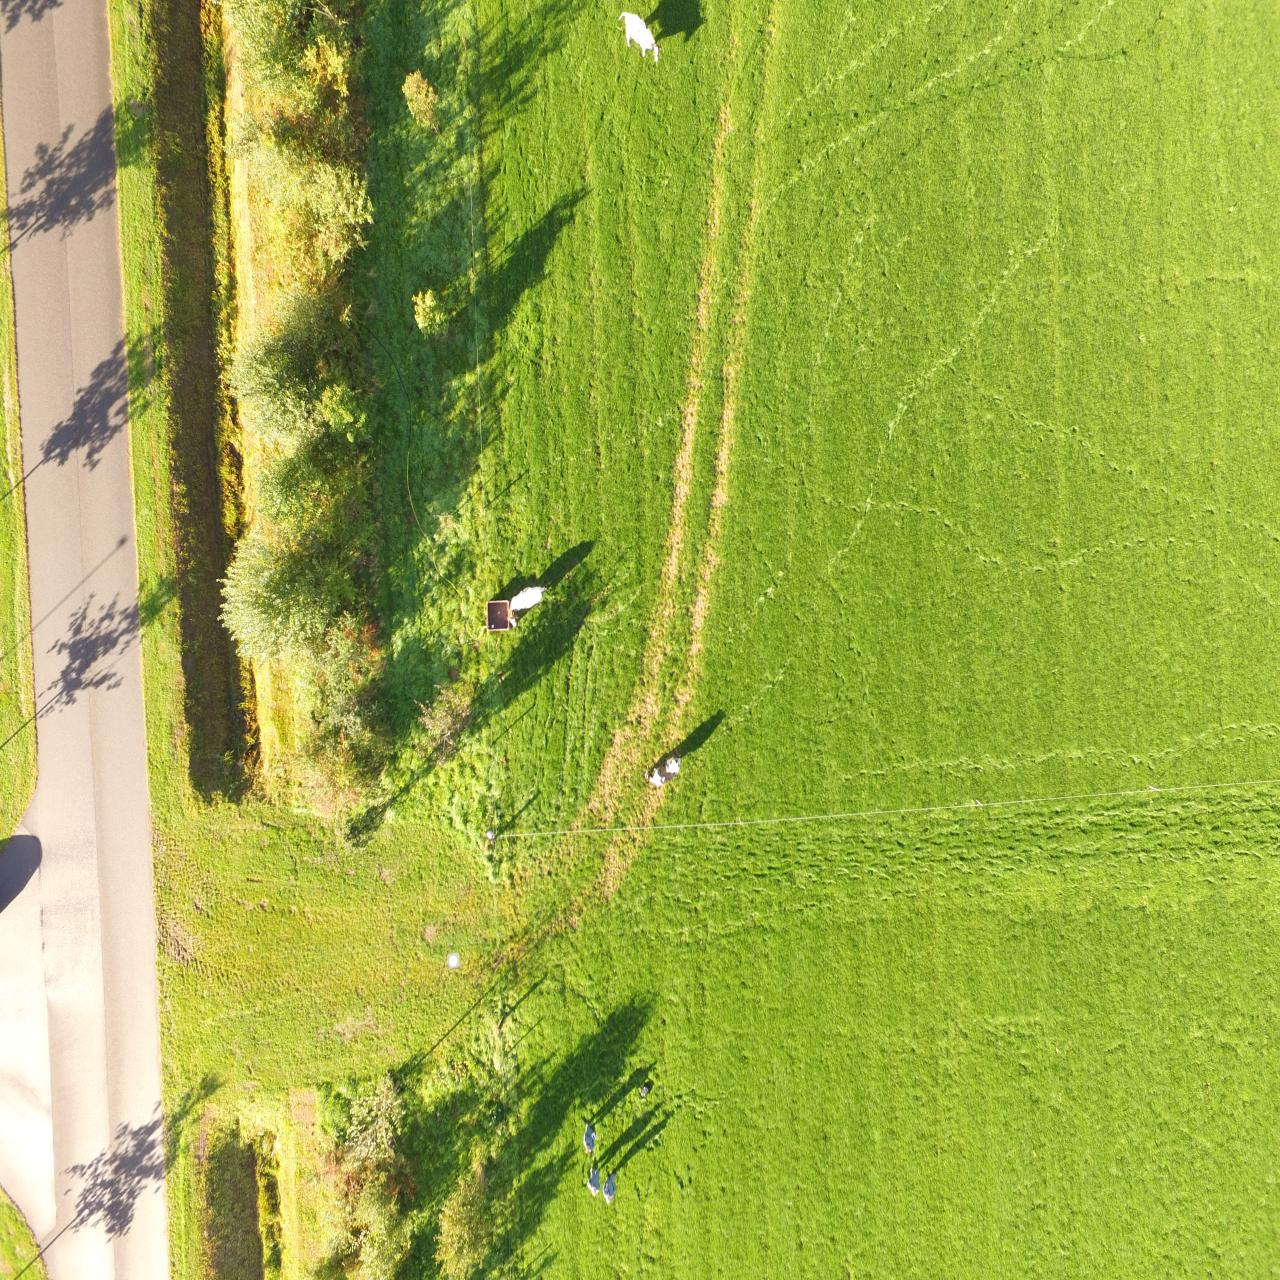cow: (619, 11, 660, 62), (508, 584, 547, 628), (641, 756, 683, 787)
